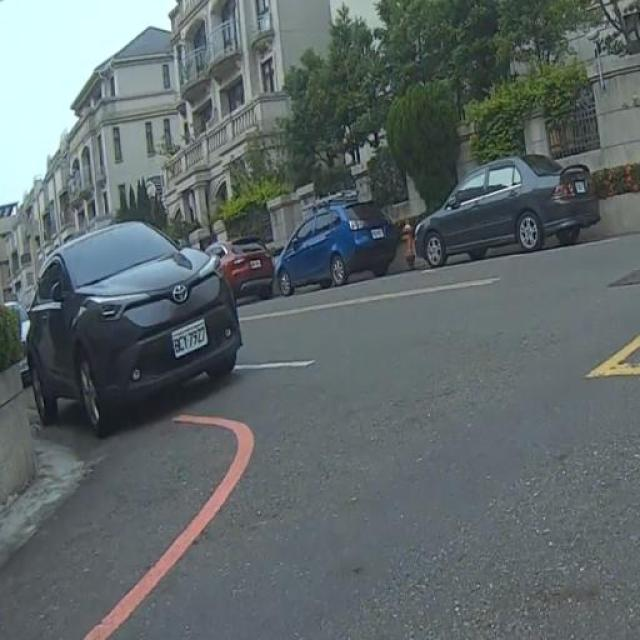Legalparking: (180, 134, 610, 264)
illegalparking: (0, 172, 266, 453)
